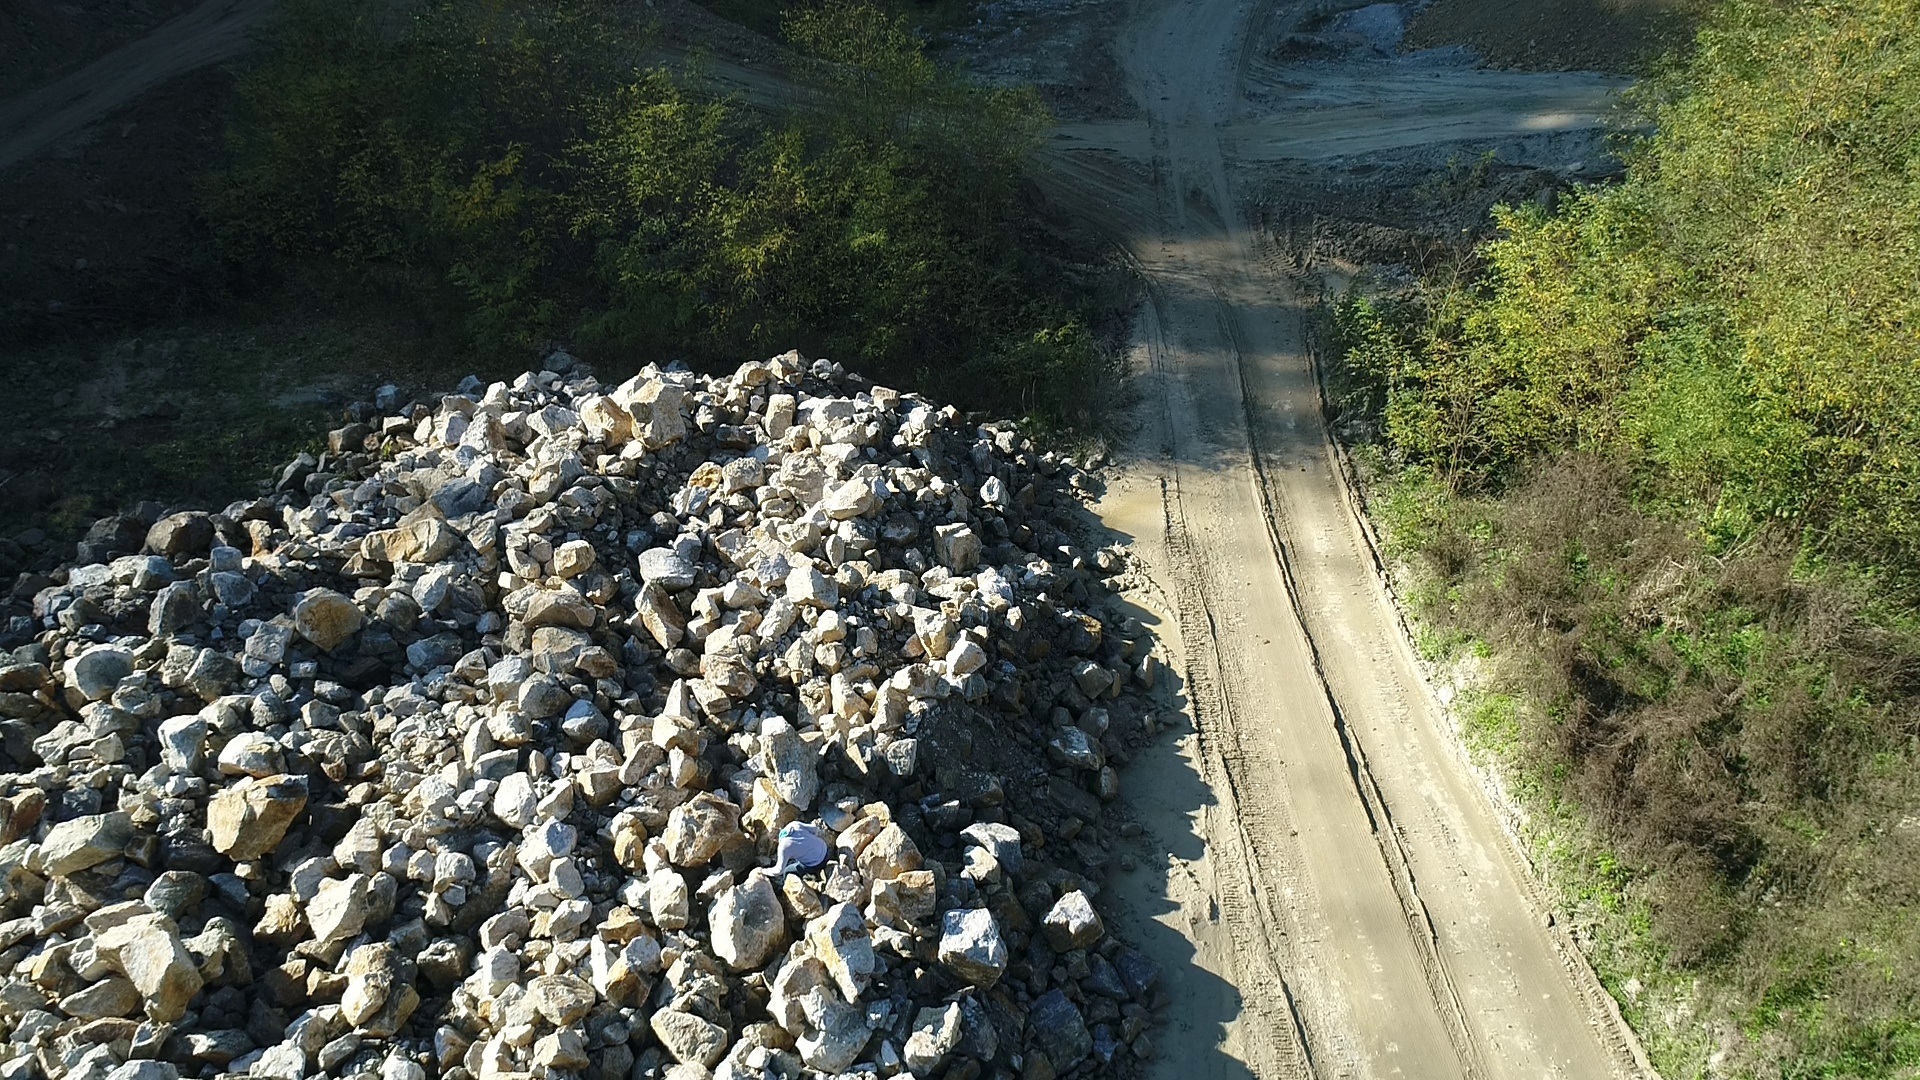not_defined: (756, 820, 829, 886)
